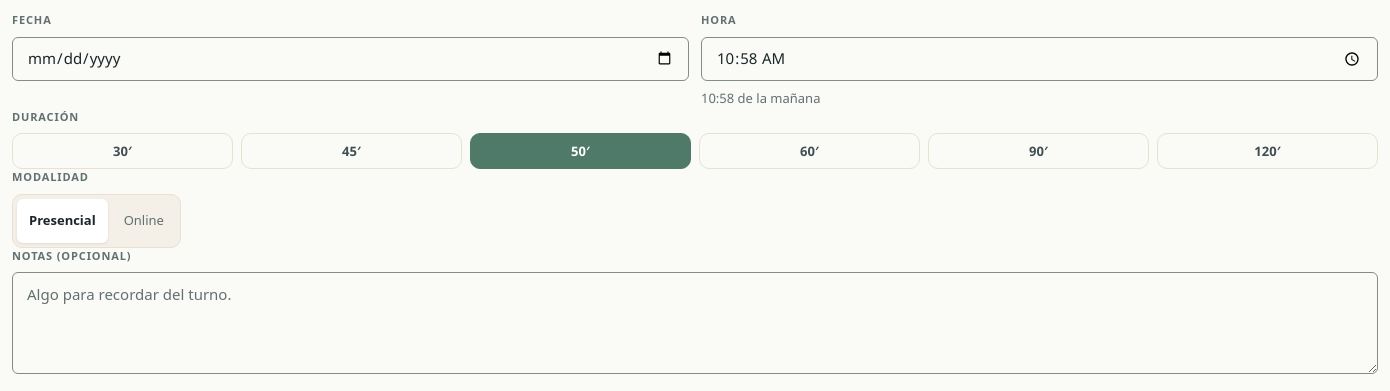
la línea sigue a lo que se escribe y desaparece si el campo queda vacío
Replace the text in the time field labelled "Hora" with "22:58" at coordinates (1040, 59), box [702,38,1377,80]
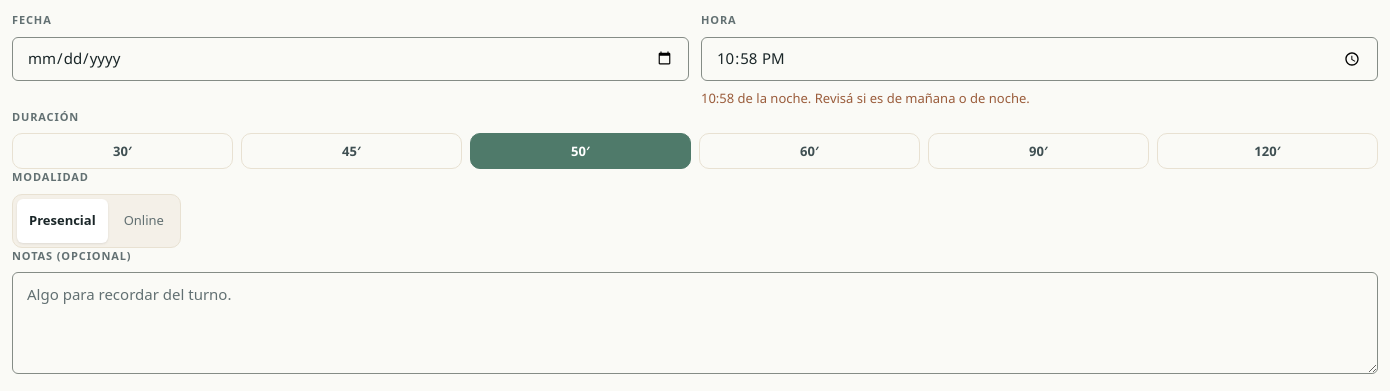
Check: the text "10:58 de la noche. Revisá si es de mañana o de noche." is shown, box [701,89,1030,107]
Clear the time field labelled "Hora" at coordinates (1040, 59), box [702,38,1377,80]
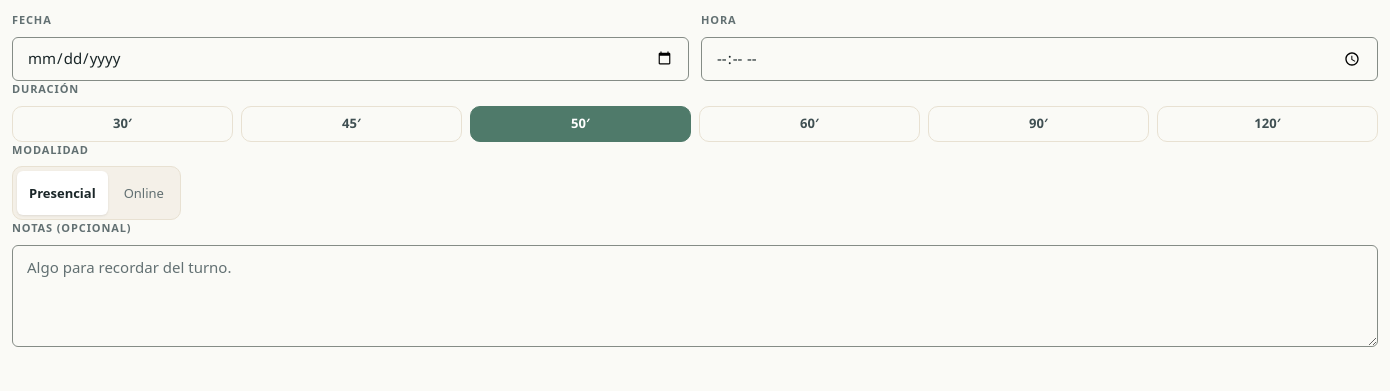
Check: the text "10:58 de la noche. Revisá si es de mañana o de noche." is gone
